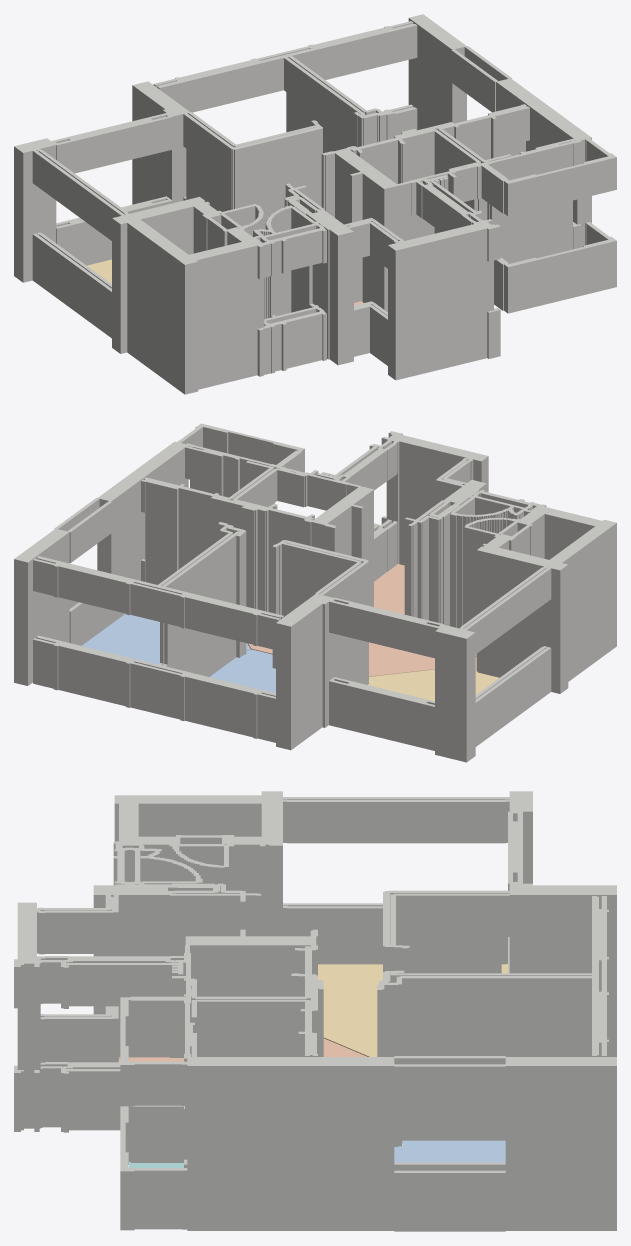
The picture shows the model from 3 angles, top to bottom: view 1: azimuth 30°, elevation 25°; view 2: azimuth 150°, elevation 25°; view 3: azimuth 270°, elevation 25°; orthographic projection. The views are drawn at different scales.
Parts seen in each view (by area): view 1: walls; view 2: walls, room:bedroom:0, room:bedroom:7, room:living:5, room:kitchen:6, room:kitchen:4; view 3: walls, room:living:5, room:bedroom:0.
Part boxes in pixels (x1,y1,x2,y2): walls: [14, 14, 616, 394]; walls: [14, 423, 616, 762]; room:bedroom:0: [82, 613, 250, 664]; room:bedroom:7: [209, 649, 275, 693]; room:living:5: [368, 657, 499, 701]; room:kitchen:6: [247, 642, 476, 676]; room:kitchen:4: [374, 564, 404, 614]; walls: [14, 791, 616, 1231]; room:living:5: [318, 964, 507, 1056]; room:bedroom:0: [394, 1140, 505, 1162].
Bounding box in the file's own units: 10.01 × 2.8 × 9.26.
